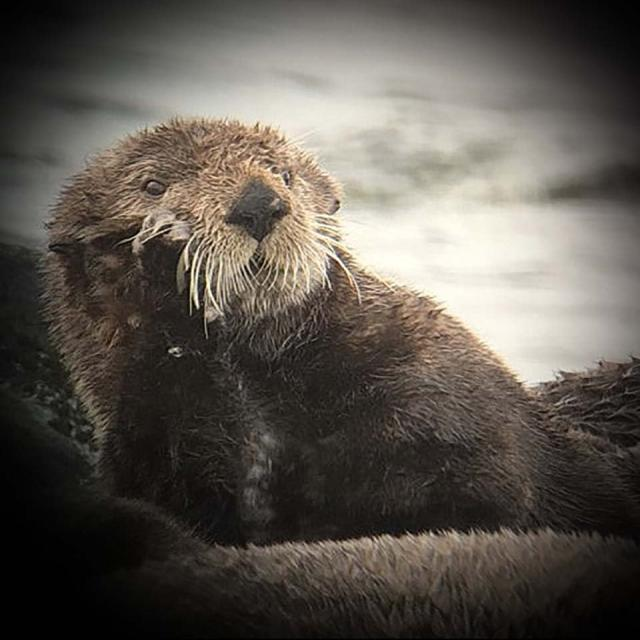Otter: (50, 115, 596, 536)
